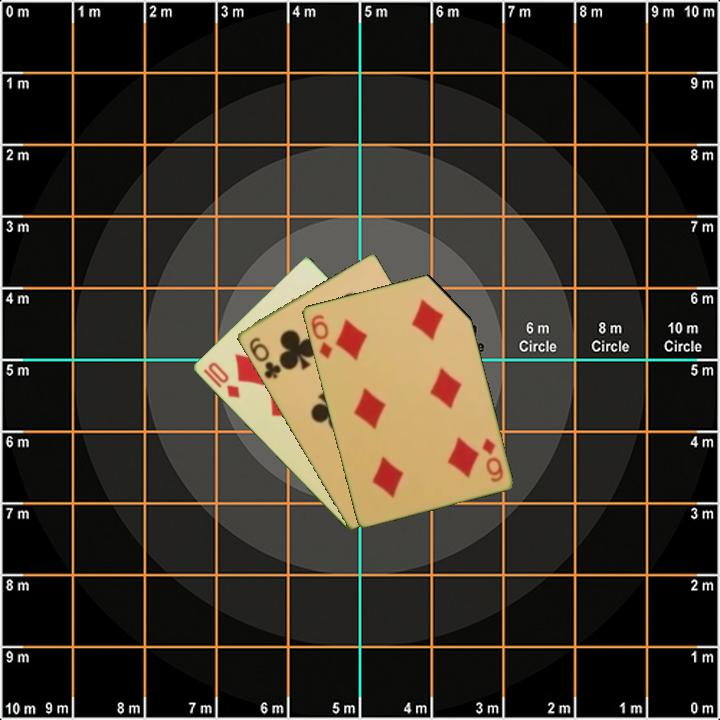10d: (204, 358, 242, 401)
6c: (245, 334, 284, 382)
6d: (478, 434, 506, 485), (307, 311, 335, 361)
